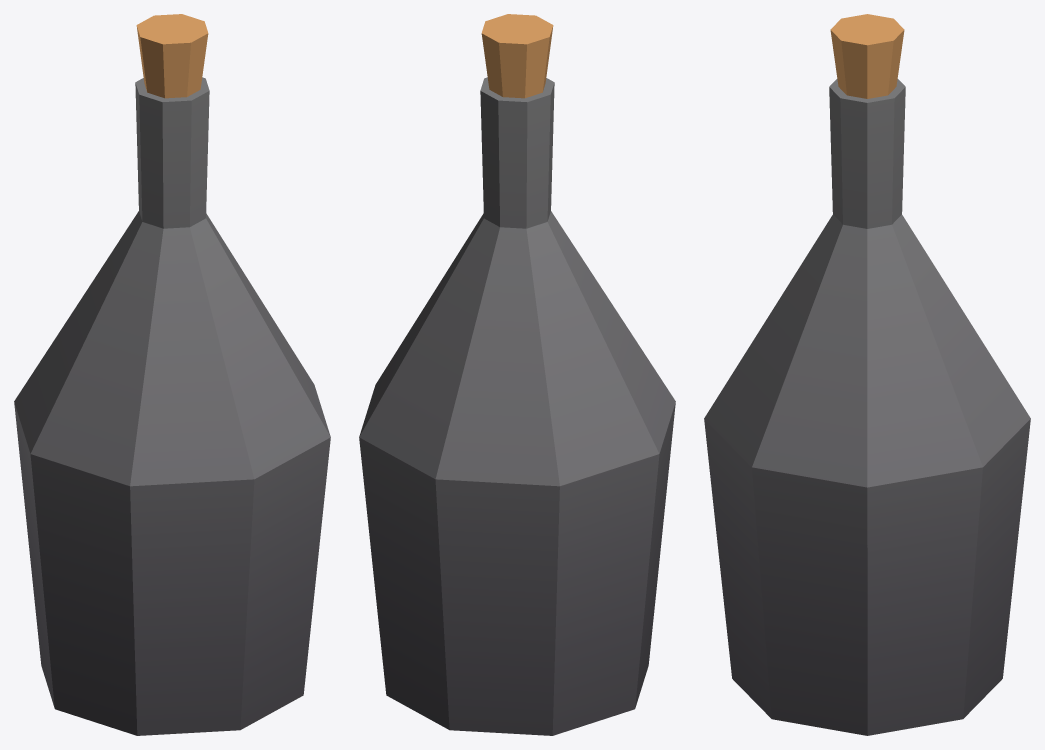
Rendered from KitchenProps_07.fbx.
3 renders of one model, left to right at view 1: azimuth 30°, elevation 25°; view 2: azimuth 150°, elevation 25°; view 3: azimuth 270°, elevation 25°, orthographic.
Visible parts, largest first — view 1: KitchenProps_07; view 2: KitchenProps_07; view 3: KitchenProps_07.
Part boxes in pixels (bbox=[...]): KitchenProps_07: bbox=[14, 14, 330, 735]; KitchenProps_07: bbox=[359, 14, 675, 735]; KitchenProps_07: bbox=[704, 14, 1030, 735].
Bounding box in the file's own units: 7.95 × 17.42 × 7.95.
